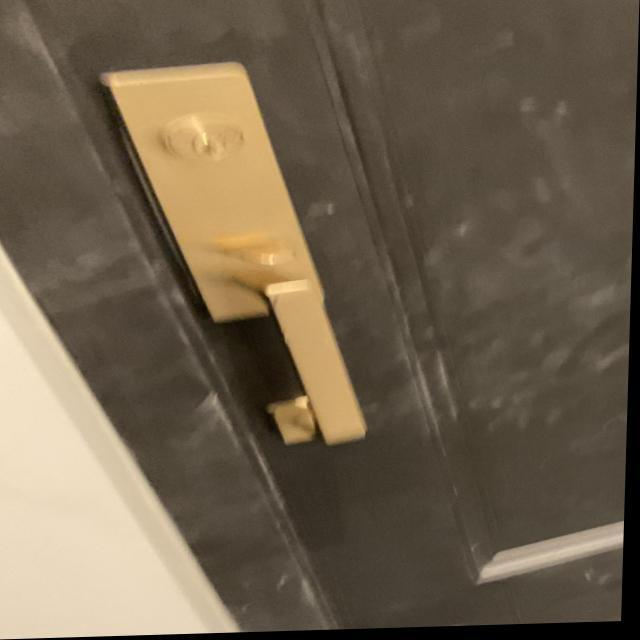door_handle: (210, 270, 389, 461)
